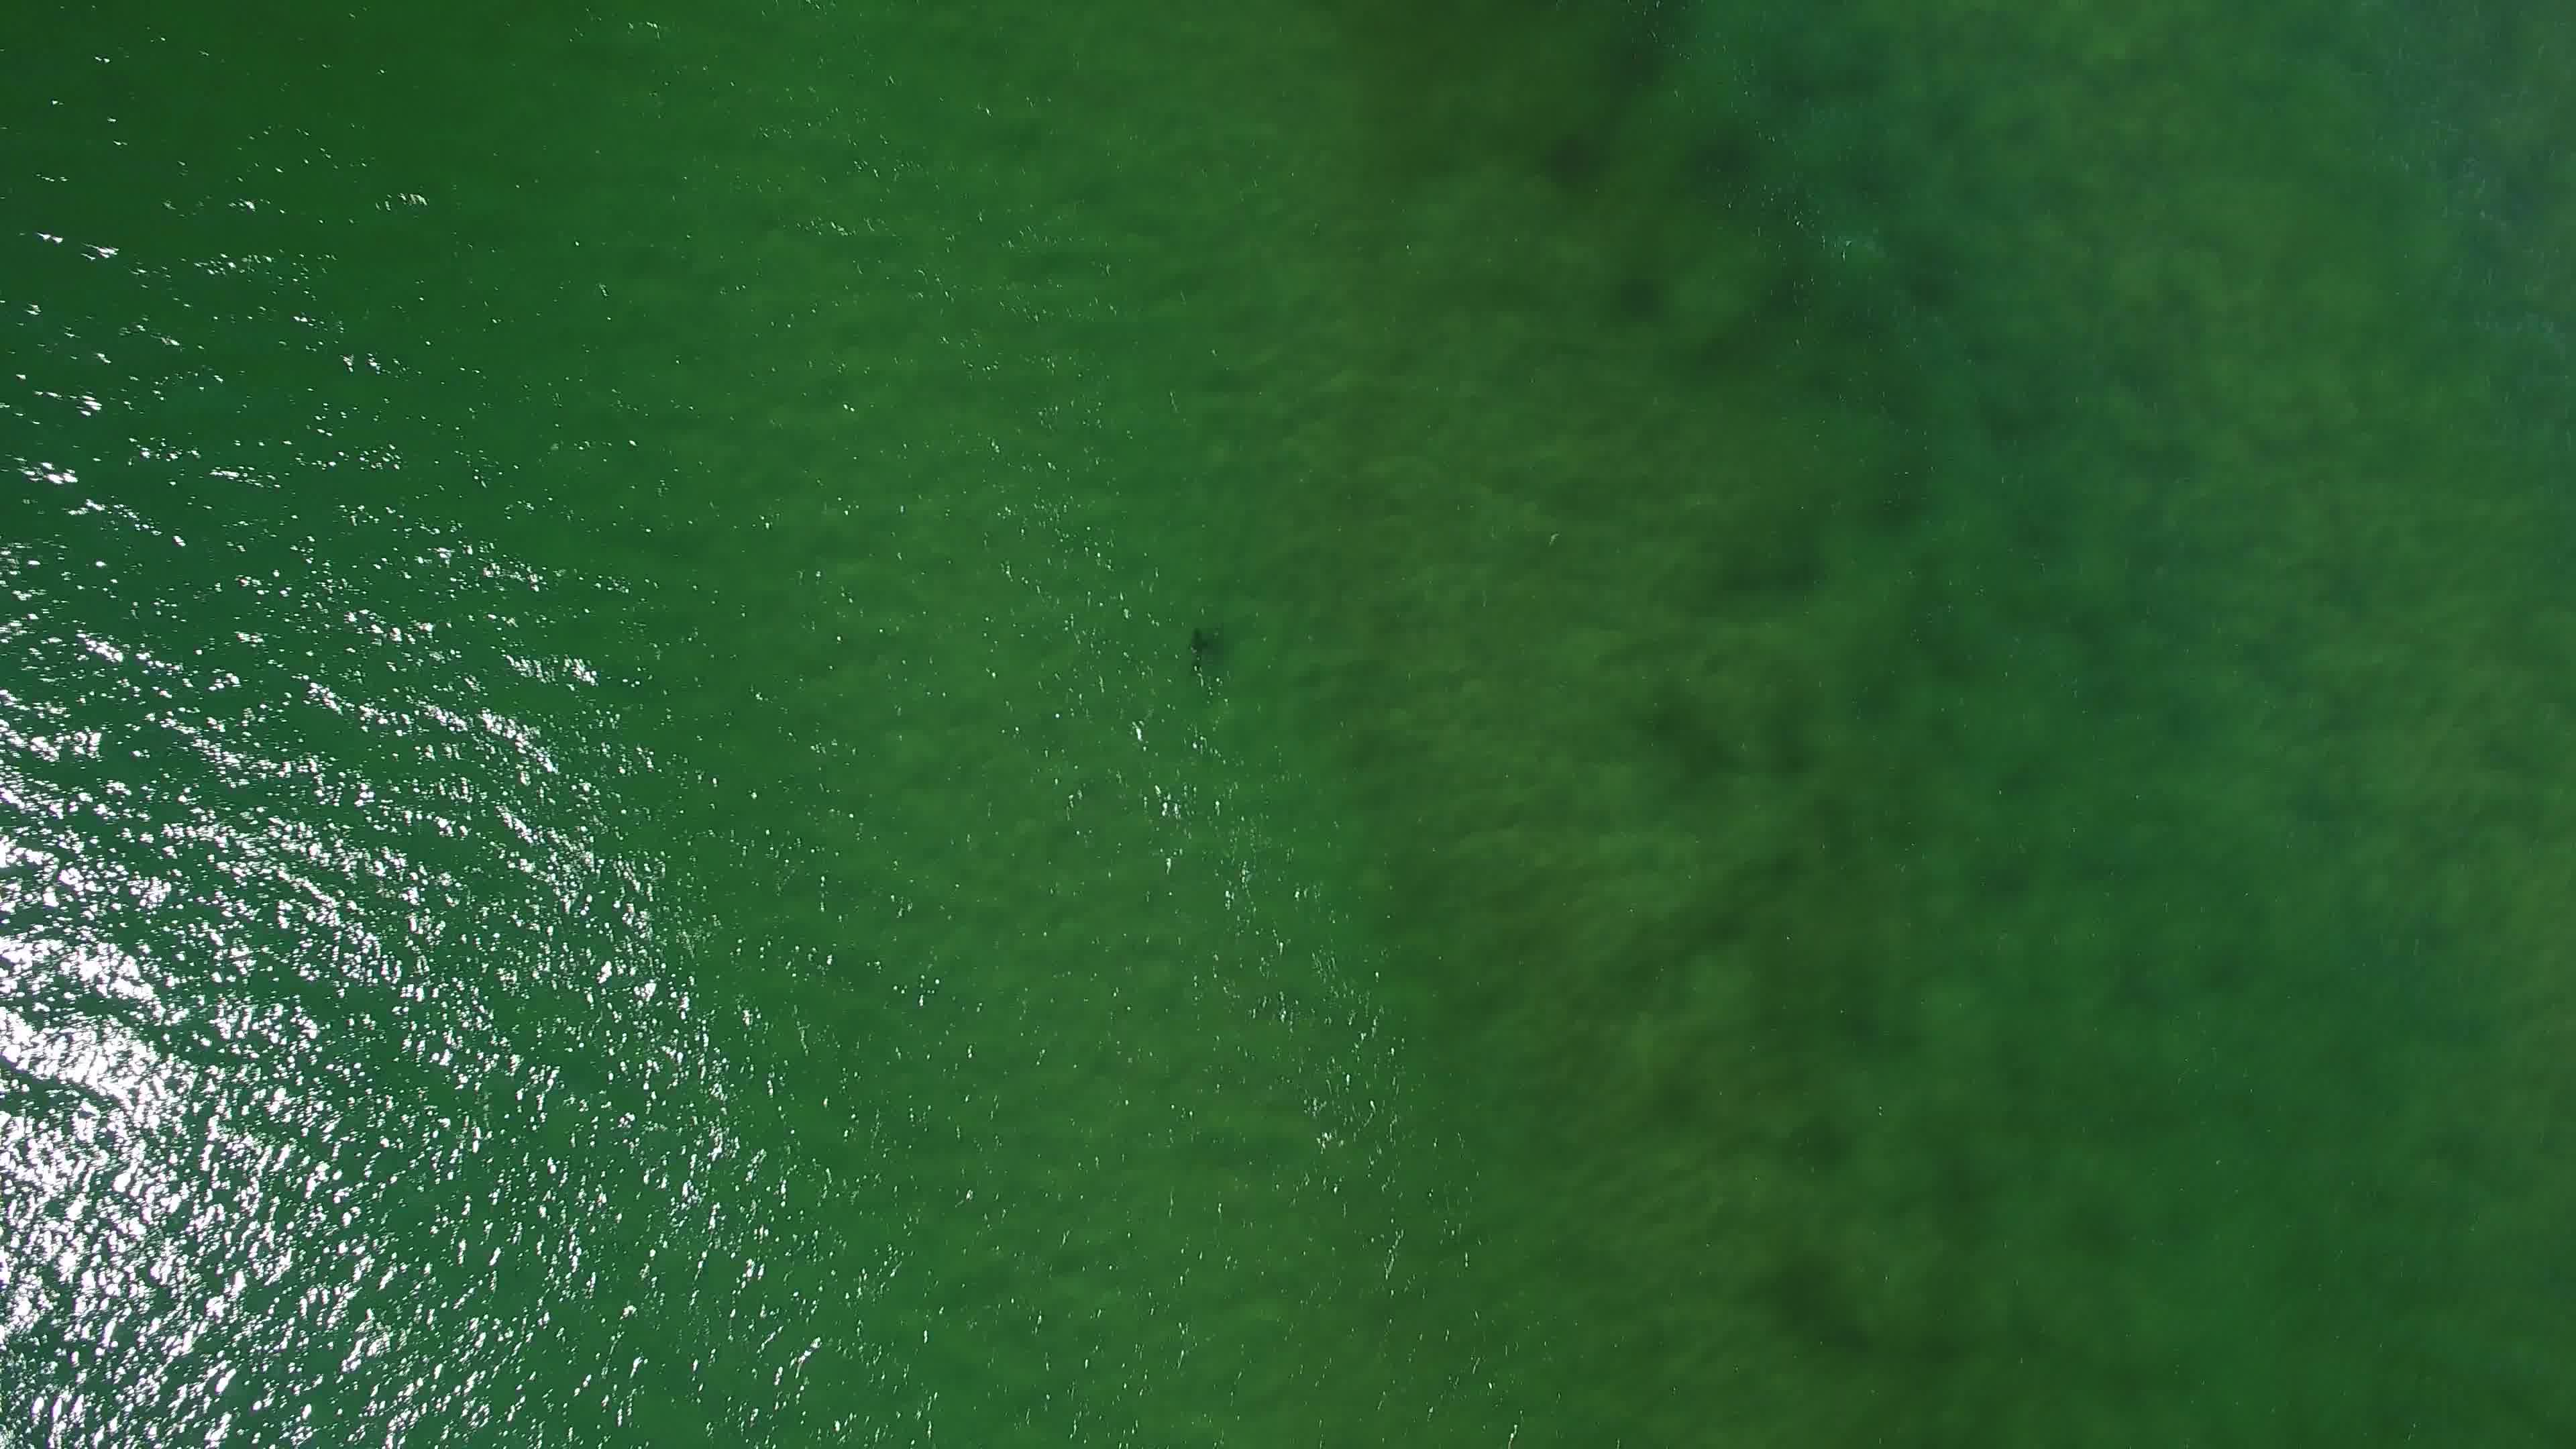shark: (1178, 623, 1221, 678)
